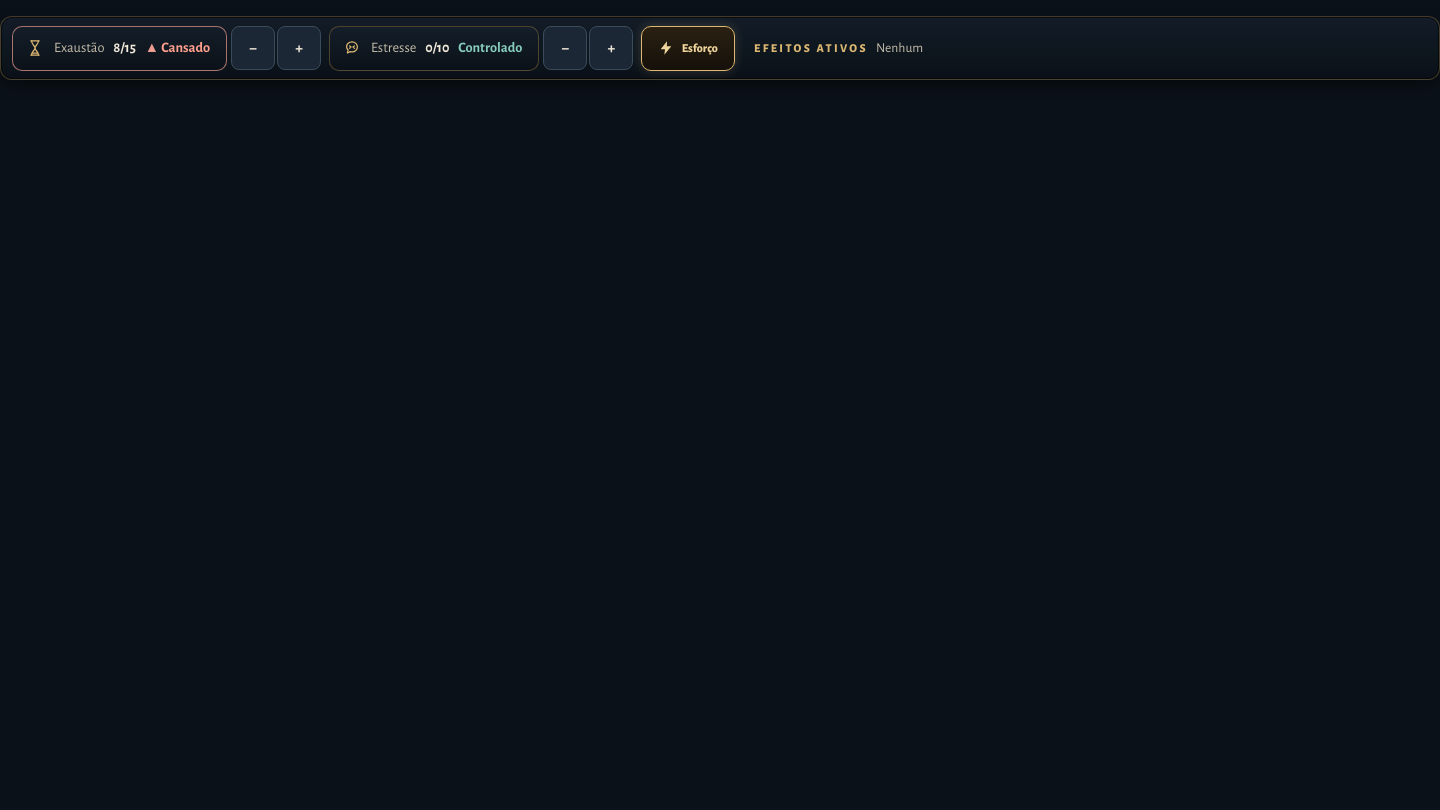
Test: alteração do Narrador (5.1) › abre com a prévia e confirma em um clique depois de informar a origem
Step 1. Click the button named "Aumentar Exaustão" → (299, 48), box [277,26,321,70]
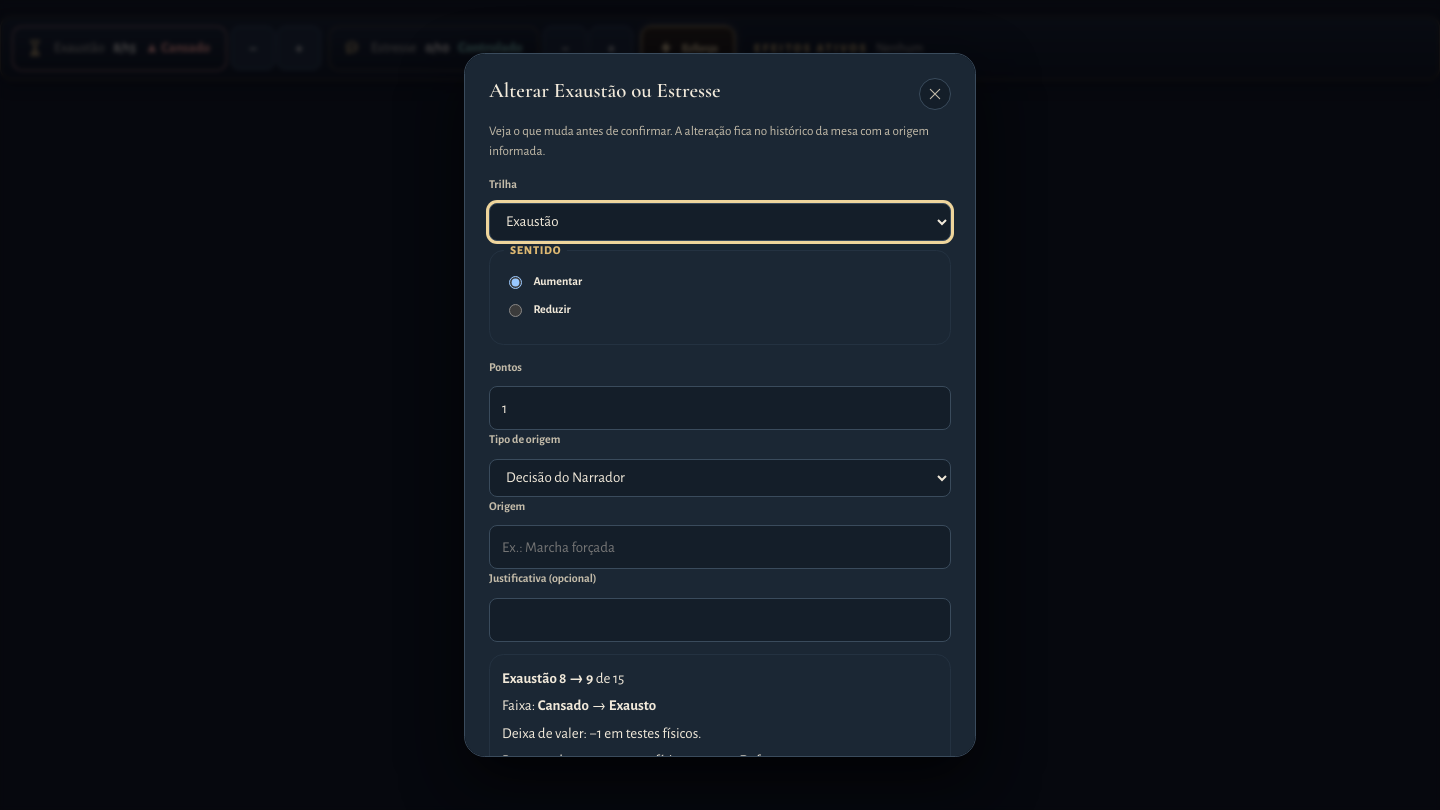
Now the message shows "Exaustão 8 → 9", box [489,654,951,757]
Now the message shows "Faixa: Cansado → Exausto", box [489,654,951,757]
Now the message shows "Passa a valer: −2 em testes físicos e −1 em Defesas.", box [489,654,951,757]
Step 2. Type "Marcha forçada" into the field labelled "Origem" → (720, 547), box [489,525,951,569]
(page scrolled)
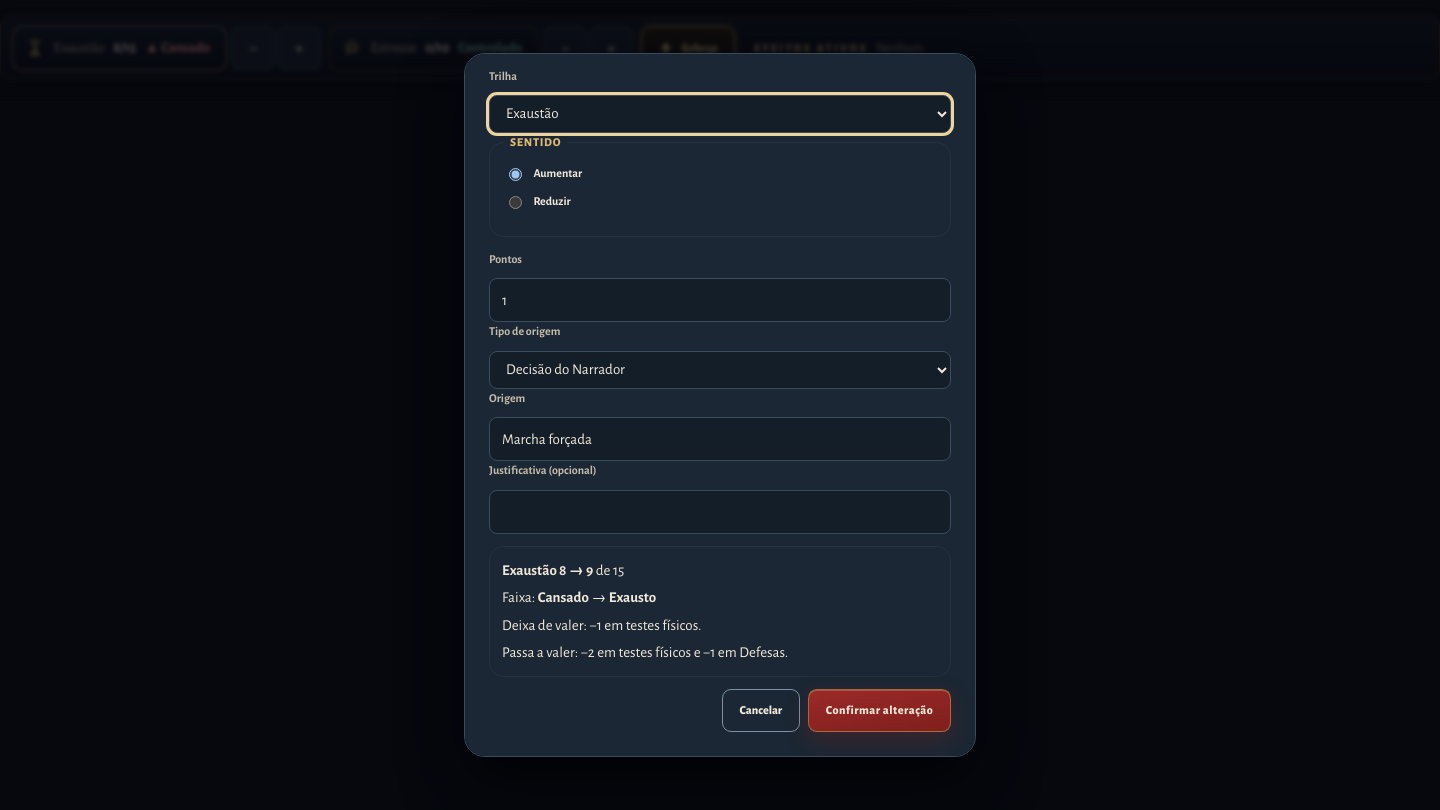
Step 3. Click the button "Confirmar alteração" → (880, 711), box [808,689,951,732]
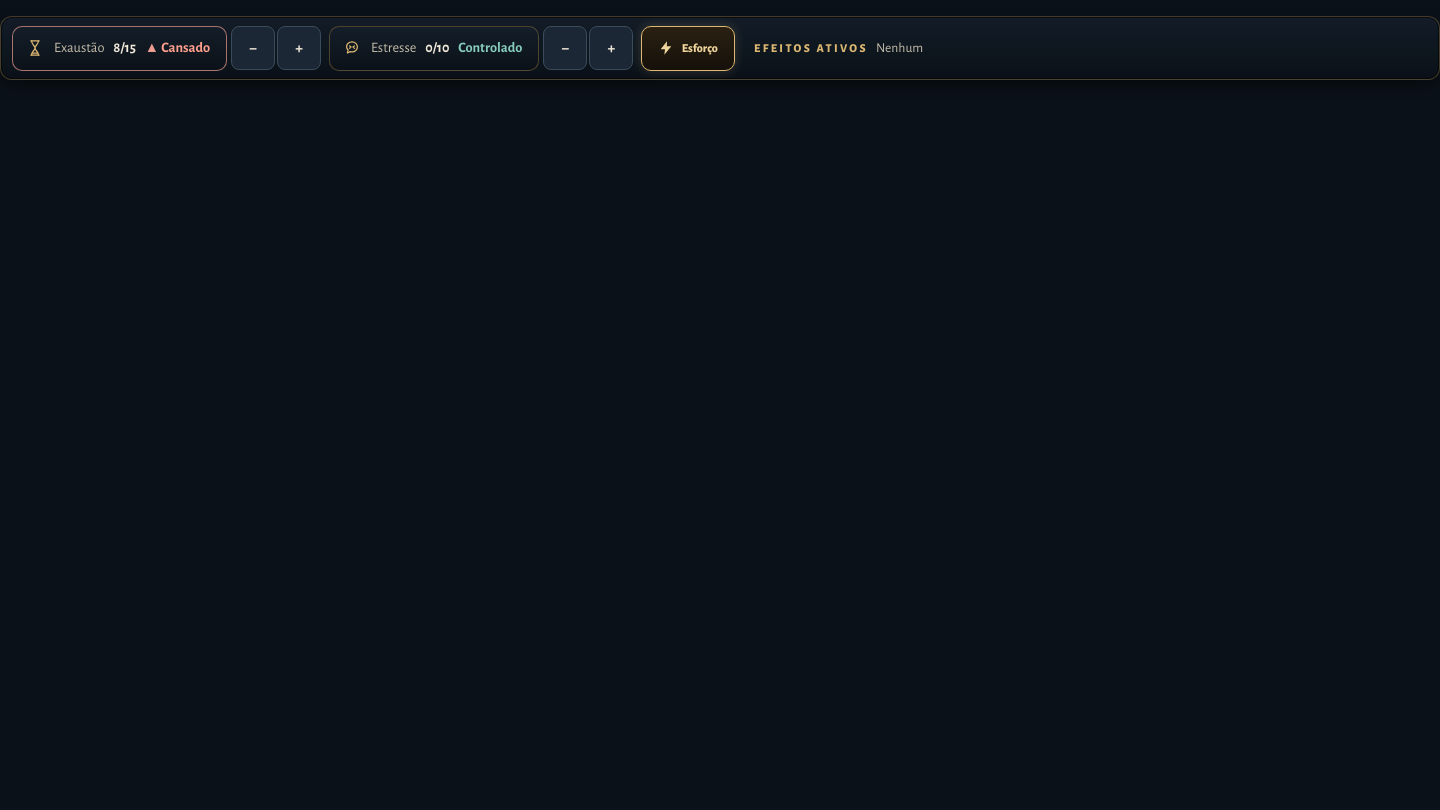
Now the dialog is gone
